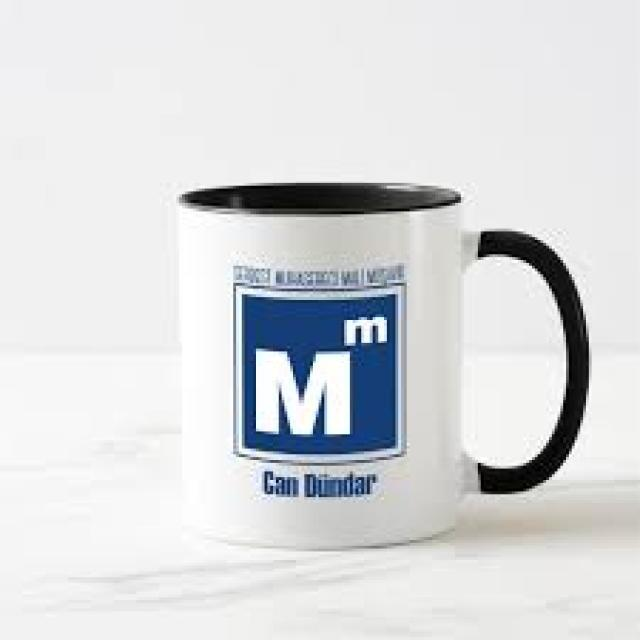taza: (174, 182, 588, 550)
